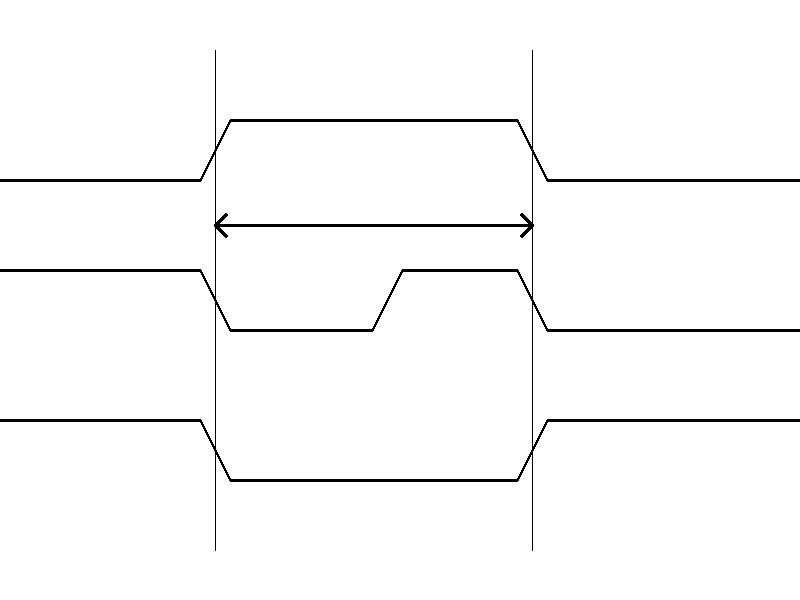double_arrow: (215, 210, 532, 240)
